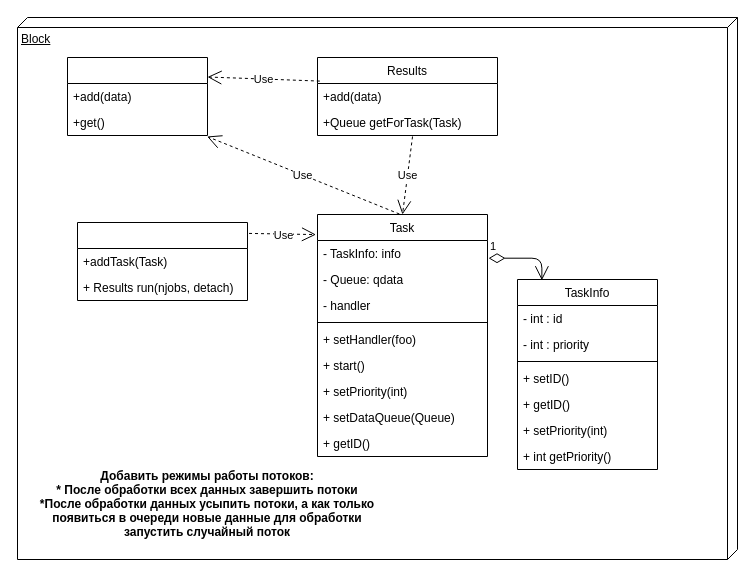
This 755x577 diagram has some shape labels left out. The box of each missing label's shape, as (x1, y1, x2, y2) in pixels:
Queue: (66, 56, 208, 136)
Tasks Manager: (76, 222, 248, 300)
